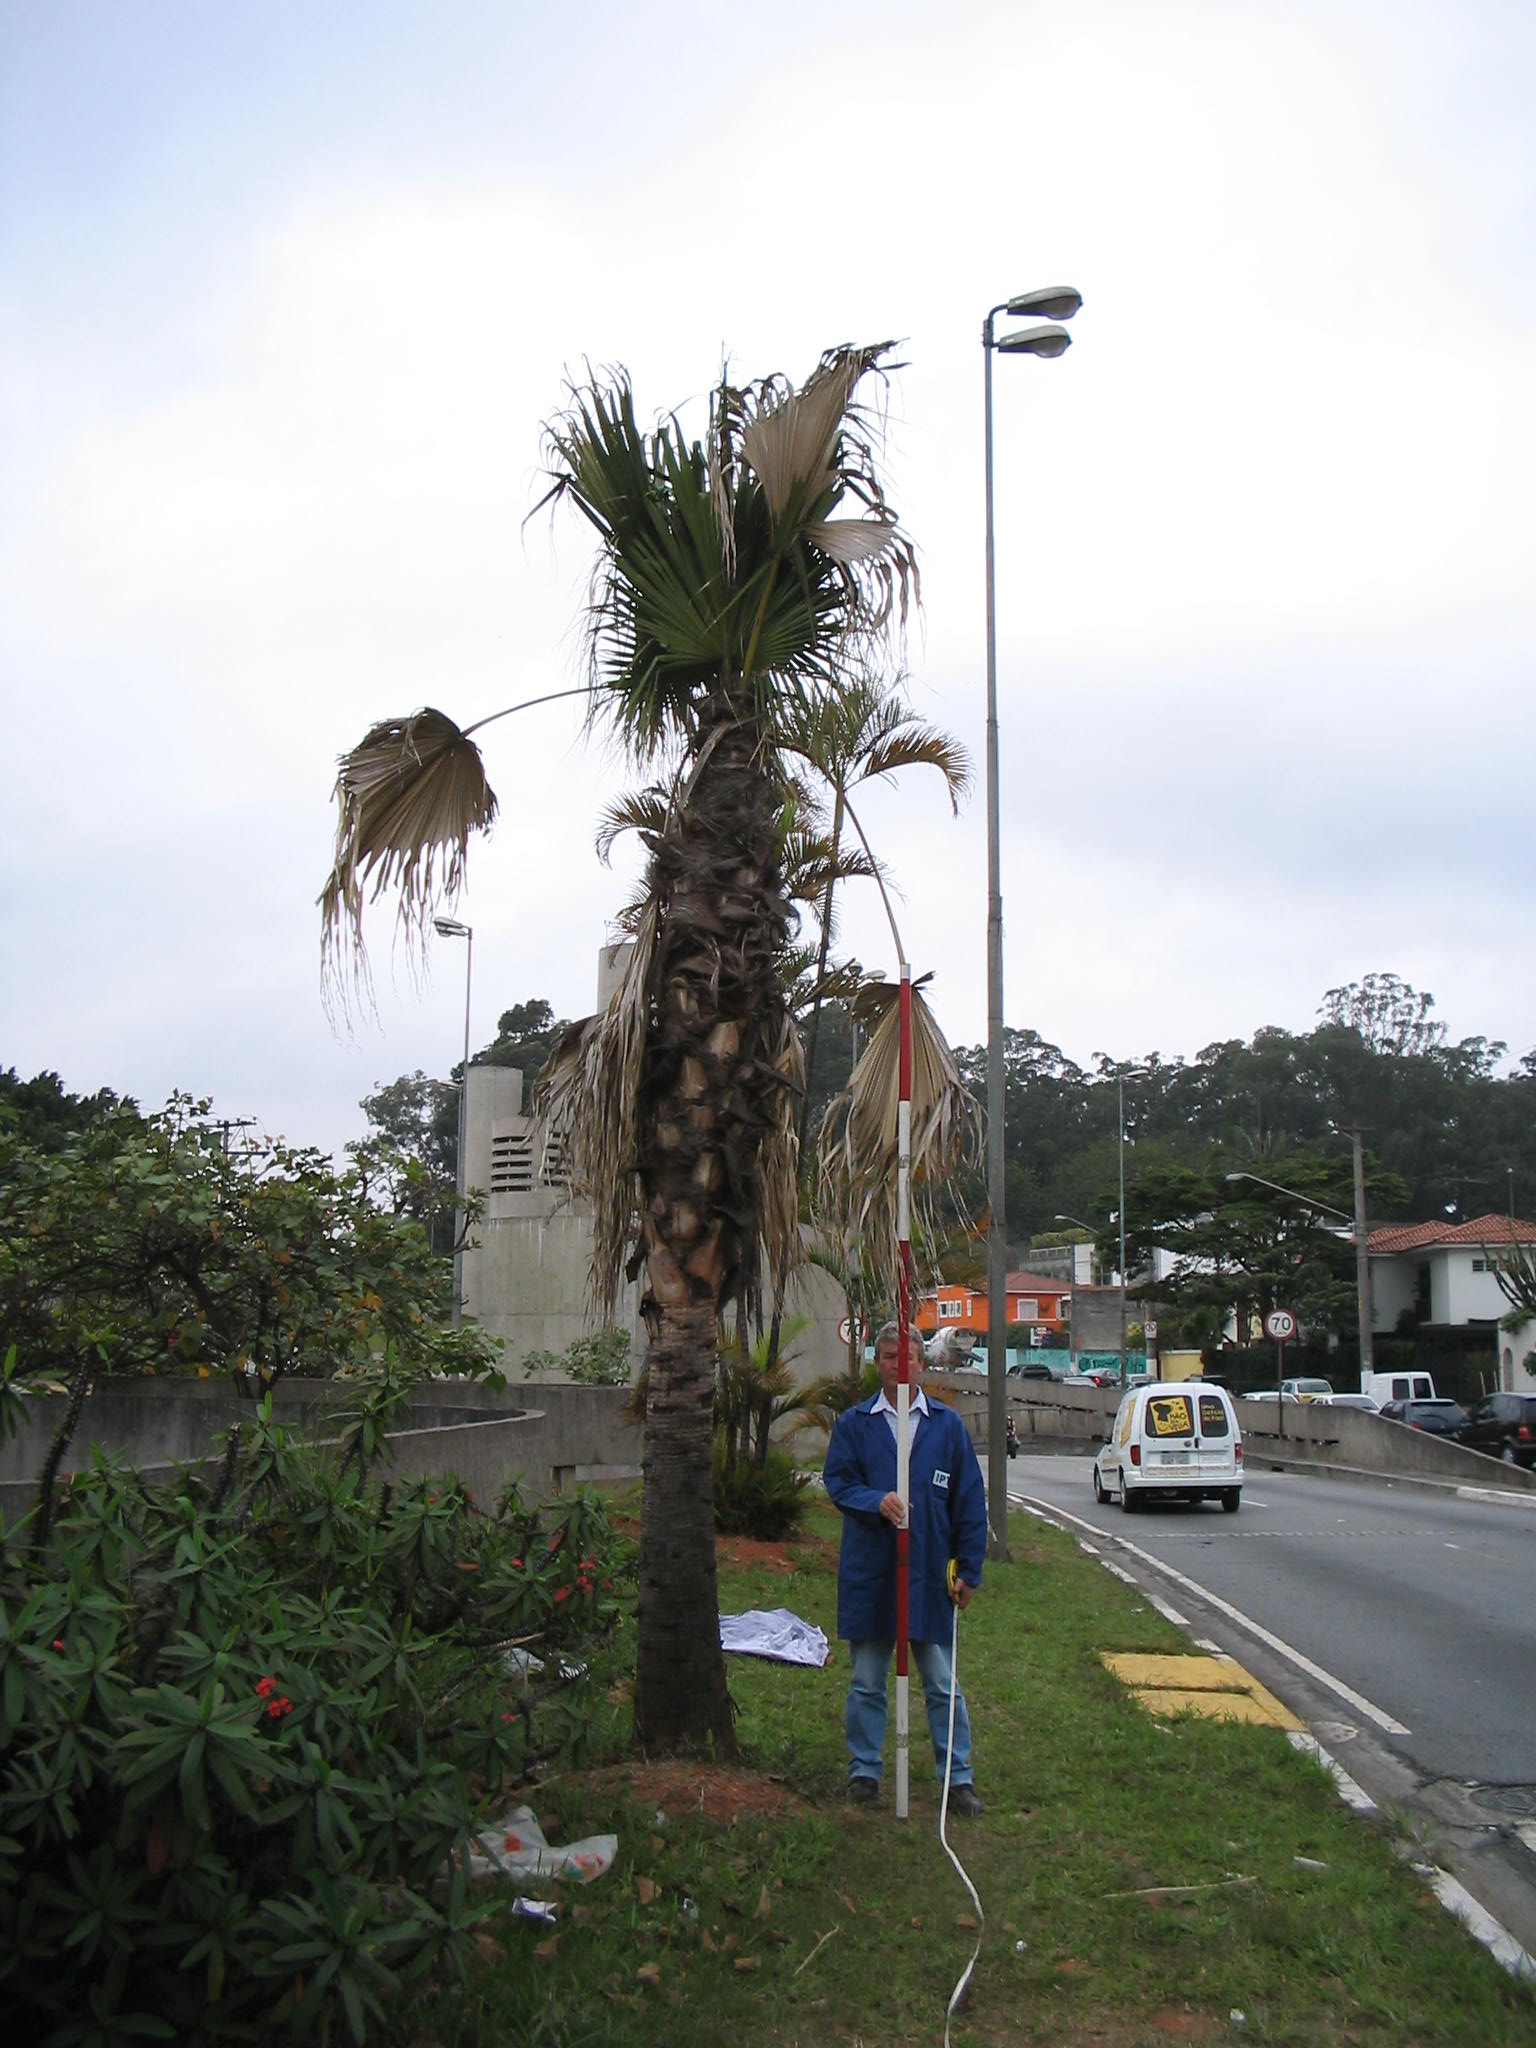stem: (544, 787, 865, 1767)
stick: (879, 958, 925, 1822)
tree: (541, 340, 975, 1774)
